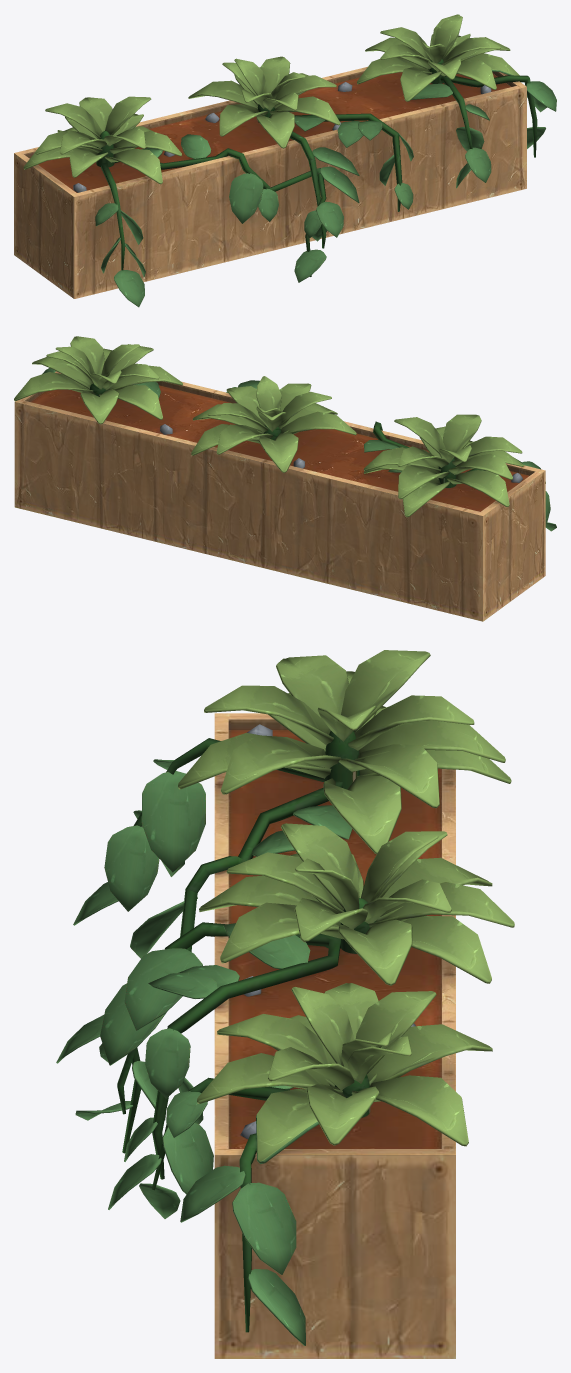
The model's file is Plant 4.obj.
The picture shows the model from 3 angles, top to bottom: view 1: azimuth 30°, elevation 25°; view 2: azimuth 150°, elevation 25°; view 3: azimuth 270°, elevation 25°; orthographic projection. The views are drawn at different scales.
Visible parts, largest first — view 1: Plant_4; view 2: Plant_4; view 3: Plant_4.
Boxes of the visible parts, x1,y1,x2,y2 form: Plant_4: (14, 14, 556, 307); Plant_4: (14, 336, 556, 621); Plant_4: (56, 650, 514, 1358).
Size of the model in its own units: 5.68 by 1.8 by 2.28.
